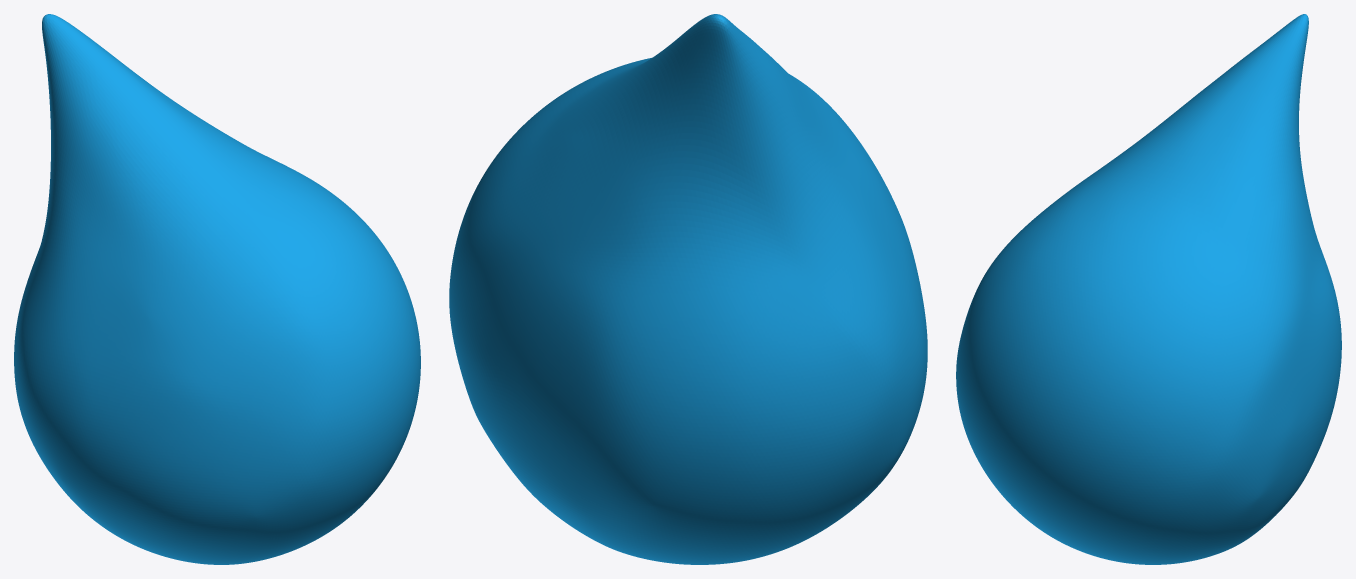
File: water.fbx
3 renders of one model, left to right at view 1: azimuth 30°, elevation 25°; view 2: azimuth 150°, elevation 25°; view 3: azimuth 270°, elevation 25°, orthographic. The views are drawn at different scales.
Visible parts, largest first — view 1: Icosphere; view 2: Icosphere; view 3: Icosphere.
Boxes of the visible parts, bbox=[...] form: Icosphere: bbox=[14, 14, 420, 564]; Icosphere: bbox=[449, 14, 927, 564]; Icosphere: bbox=[956, 14, 1341, 564].
Size of the model in its own units: 197 by 270 by 194.
